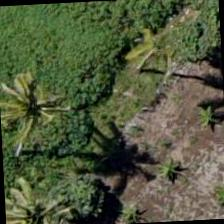Kelapa_Sawit: (0, 55, 68, 149)
